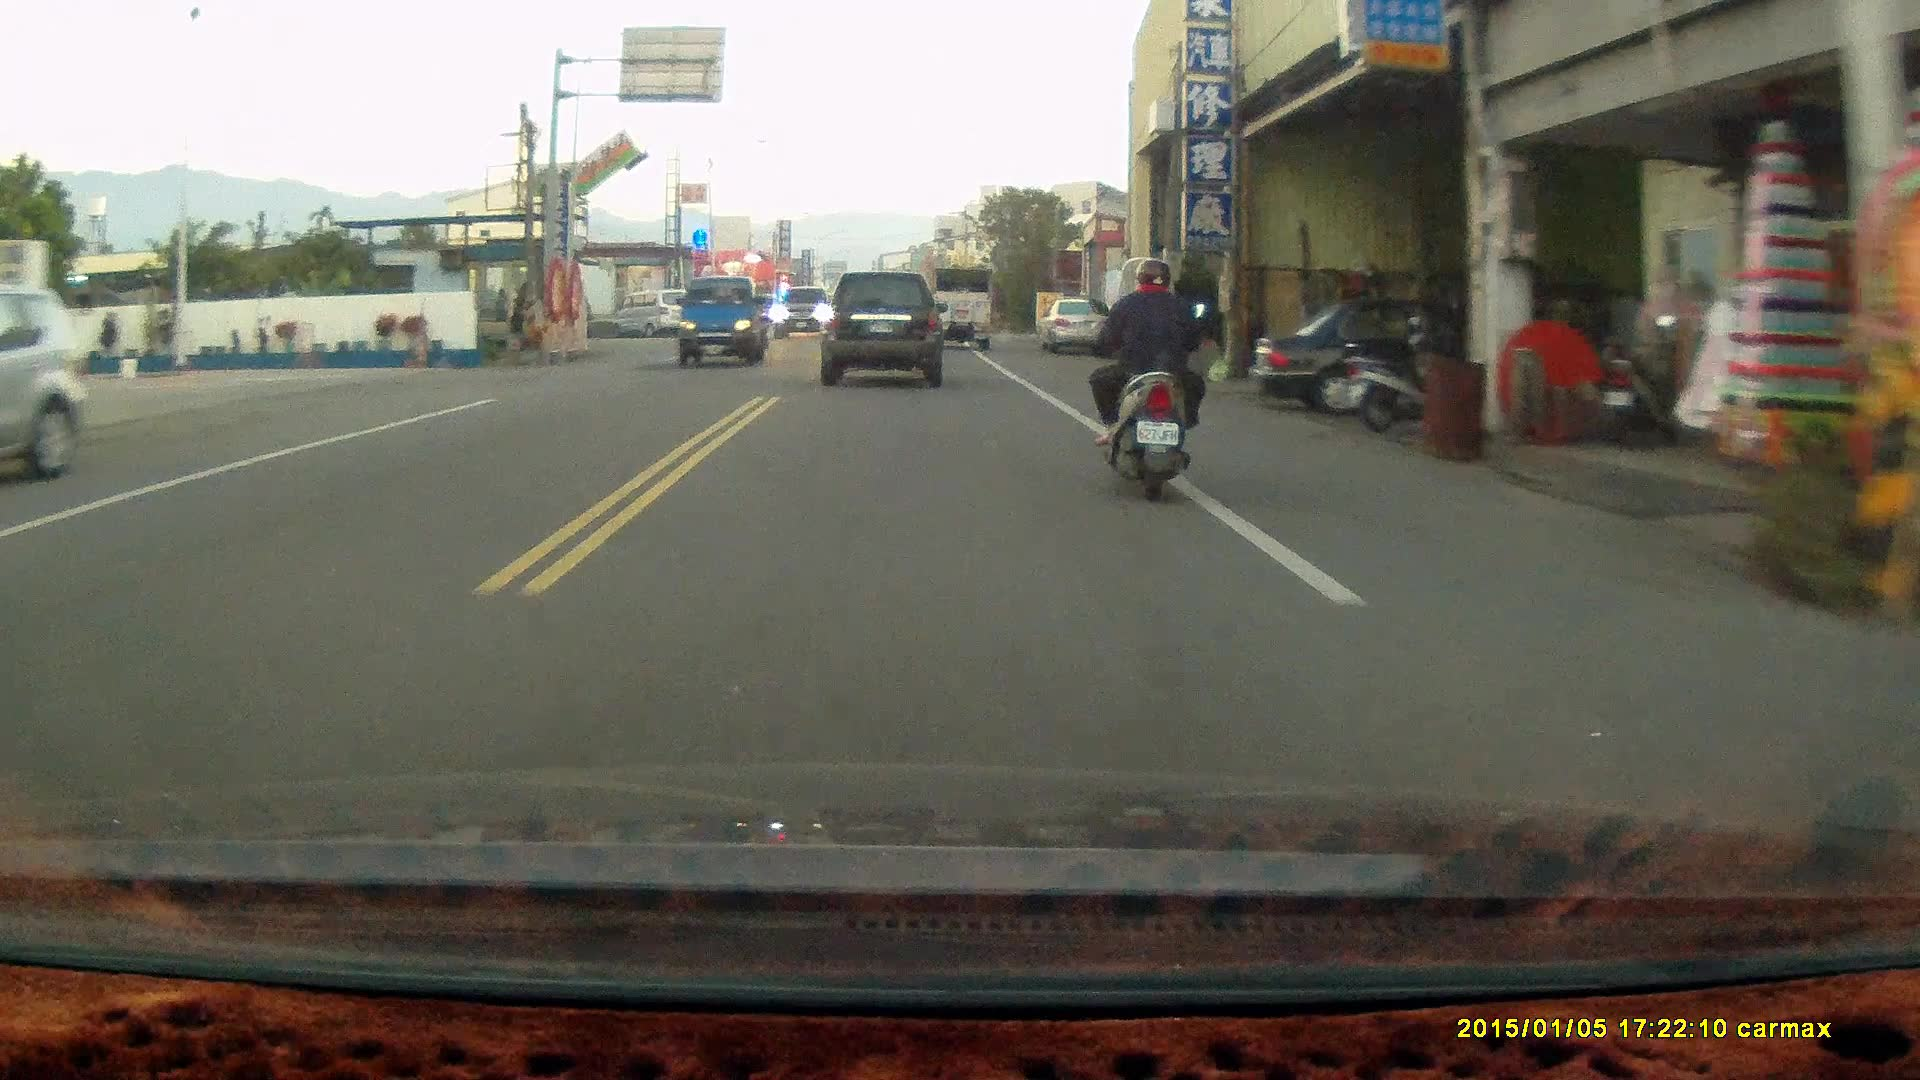rider: (1089, 256, 1207, 503)
vehicle: (1243, 288, 1535, 415), (1, 287, 93, 488), (823, 270, 946, 387), (677, 275, 776, 367), (925, 268, 995, 352), (1043, 294, 1120, 357), (612, 291, 698, 337)
